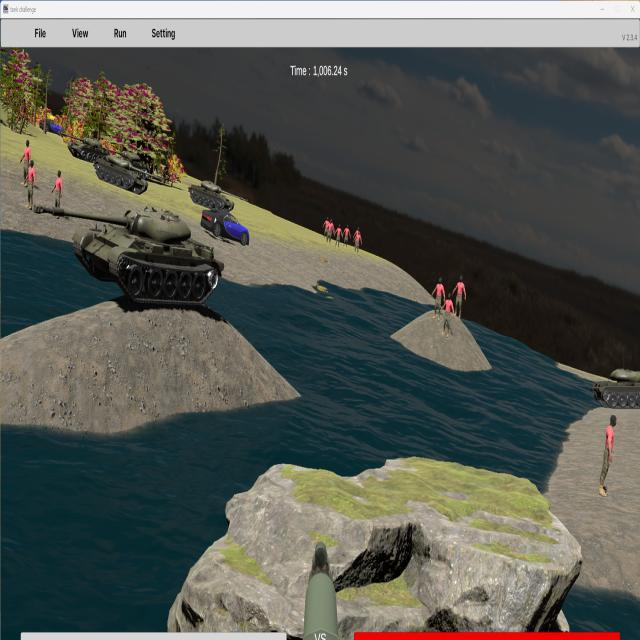Human: (599, 414, 617, 498), (452, 274, 466, 321), (441, 291, 455, 338), (19, 139, 32, 188), (51, 169, 63, 220), (431, 277, 445, 320), (25, 158, 35, 210)
Tank: (31, 204, 225, 310), (93, 153, 162, 194), (592, 366, 640, 410), (188, 180, 248, 213), (60, 133, 109, 163)
car: (200, 208, 250, 247)
